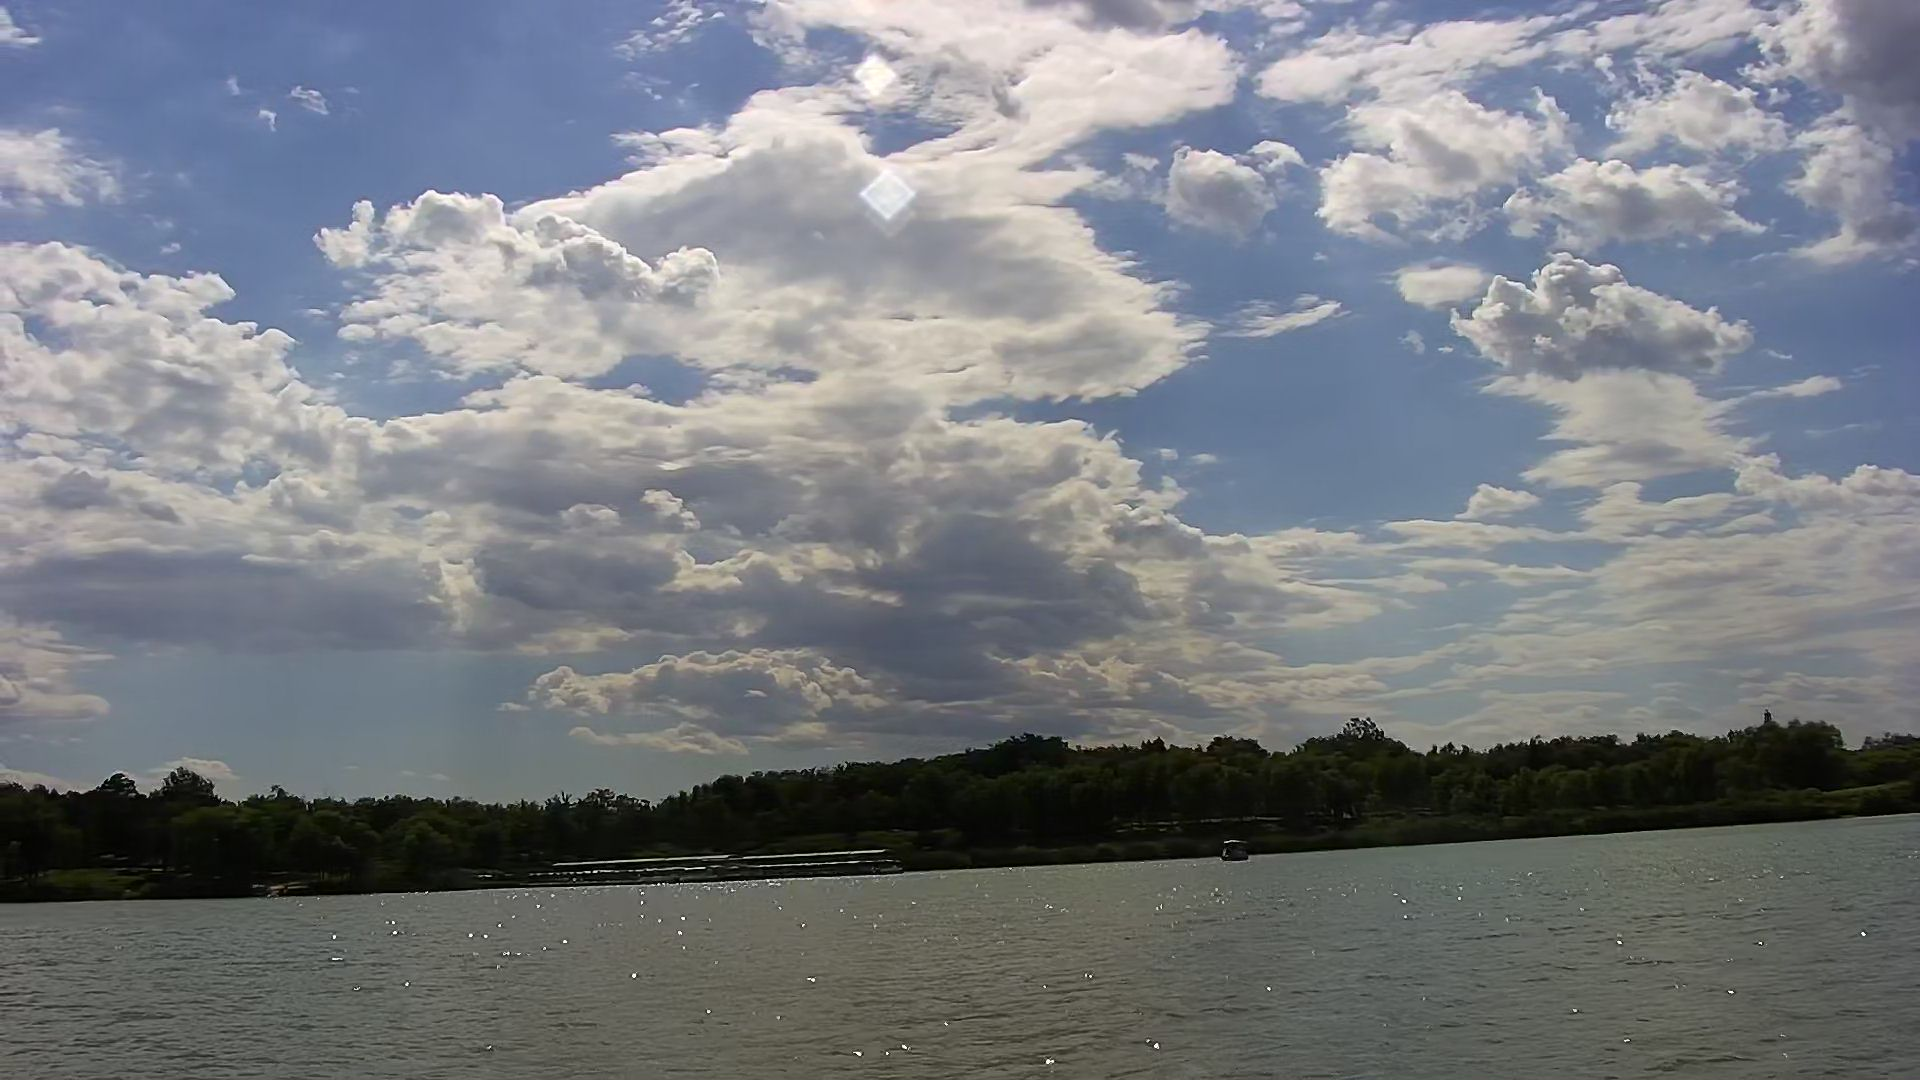boat: (1211, 832, 1250, 864)
harbor: (545, 845, 905, 887)
